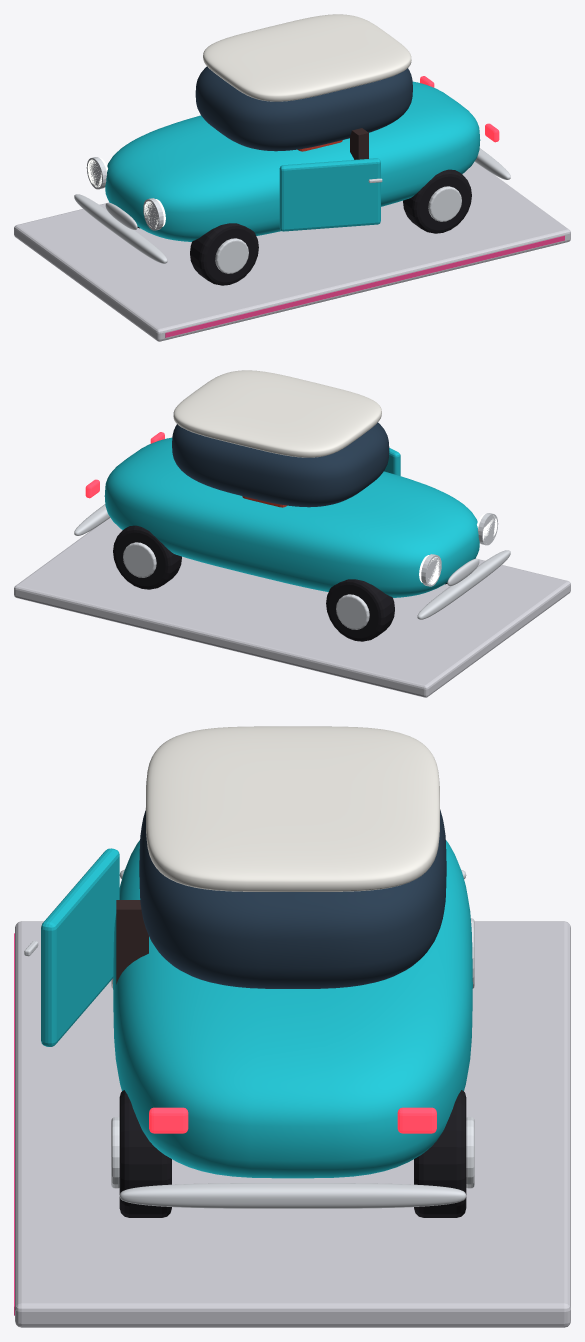
The model's file is coche.glb.
The picture shows the model from 3 angles, top to bottom: view 1: azimuth 30°, elevation 25°; view 2: azimuth 150°, elevation 25°; view 3: azimuth 270°, elevation 25°; orthographic projection. The views are drawn at different scales.
Visible parts, largest first — view 1: tarima, carroceria, techo, cabina, puerta, rueda-1-1, franja, rueda1-1, parachoques-1, tapacubos-1-1, tapacubos1-1, hueco_puerta (+3 smaller); view 2: tarima, carroceria, techo, cabina, rueda-11, rueda11, parachoques-1, tapacubos-11, tapacubos11, parachoques1, aro1, aro-1; view 3: tarima, carroceria, techo, cabina, puerta, parachoques1, rueda1-1, rueda11, hueco_puerta, piloto1, piloto-1.
Boxes of the visible parts, x1,y1,x2,y2 form: tarima: [14, 161, 570, 341]; carroceria: [105, 81, 480, 241]; techo: [203, 14, 411, 101]; cabina: [195, 66, 412, 151]; puerta: [279, 158, 380, 231]; rueda-1-1: [190, 223, 258, 285]; franja: [165, 235, 564, 337]; rueda1-1: [403, 169, 471, 233]; parachoques-1: [74, 194, 167, 263]; tapacubos-1-1: [215, 238, 248, 273]; tapacubos1-1: [428, 186, 461, 221]; hueco_puerta: [350, 128, 368, 159]; tarima: [14, 517, 570, 697]; carroceria: [104, 437, 479, 597]; techo: [173, 370, 381, 457]; cabina: [172, 422, 389, 507]; rueda-11: [326, 579, 394, 641]; rueda11: [113, 525, 181, 589]; parachoques-1: [417, 550, 510, 619]; tapacubos-11: [336, 594, 369, 629]; tapacubos11: [123, 542, 156, 577]; parachoques1: [74, 504, 110, 535]; aro1: [421, 554, 441, 586]; aro-1: [478, 513, 498, 545]; tarima: [15, 921, 570, 1327]; carroceria: [113, 840, 472, 1178]; techo: [145, 726, 440, 891]; cabina: [139, 810, 446, 988]; puerta: [41, 848, 119, 1046]; parachoques1: [119, 1183, 466, 1208]; rueda1-1: [119, 1090, 171, 1217]; rueda11: [414, 1090, 466, 1217]; hueco_puerta: [116, 900, 148, 984]; piloto1: [397, 1107, 436, 1133]; piloto-1: [149, 1107, 188, 1133].
Size of the model in its own units: 2.8 by 1.19 by 1.7.
